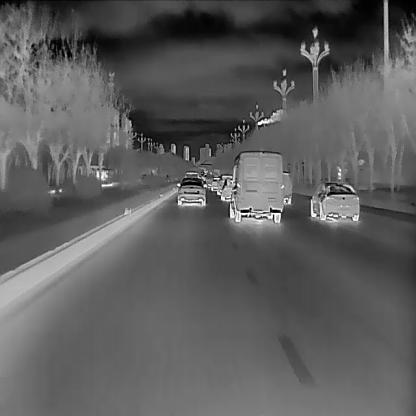car: (228, 146, 284, 222), (309, 178, 359, 223), (175, 178, 205, 206), (278, 171, 292, 204), (220, 178, 240, 201), (216, 174, 234, 193), (184, 171, 198, 185), (211, 177, 221, 190)
